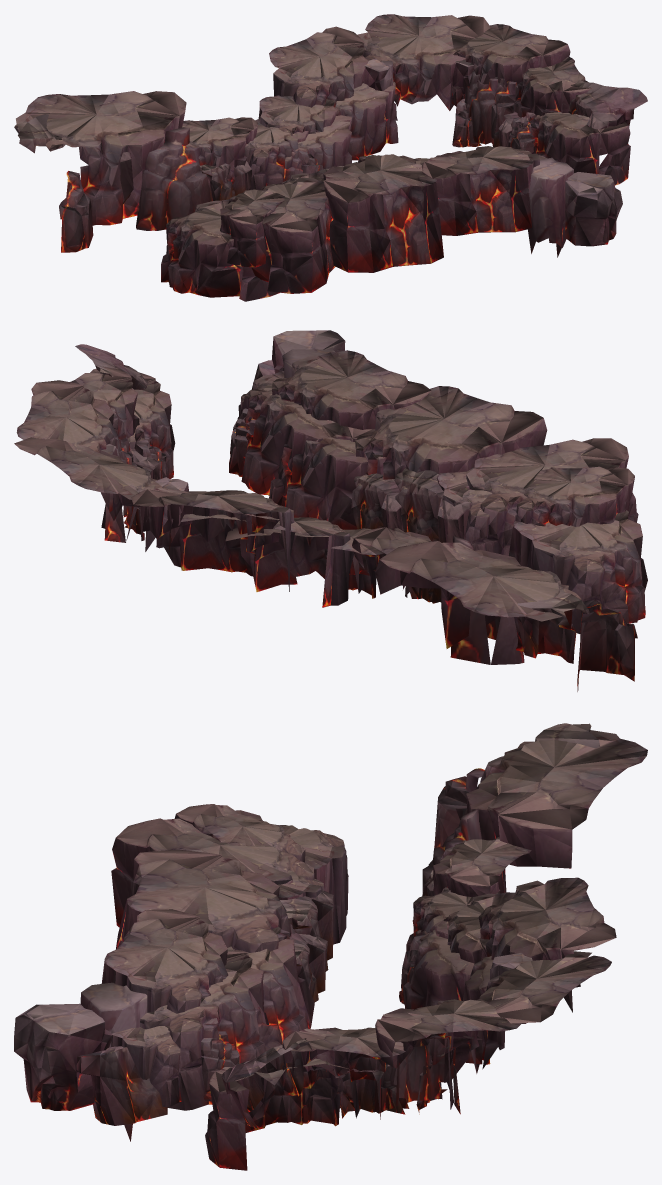
File: yanshi6_1.fbx
The picture shows the model from 3 angles, top to bottom: view 1: azimuth 30°, elevation 25°; view 2: azimuth 150°, elevation 25°; view 3: azimuth 270°, elevation 25°; orthographic projection. The views are drawn at different scales.
Parts seen in each view (by area): view 1: yanshi6_1; view 2: yanshi6_1; view 3: yanshi6_1.
Part boxes in pixels (x1=…): yanshi6_1: x1=14, y1=14, x2=647, y2=301; yanshi6_1: x1=14, y1=330, x2=647, y2=691; yanshi6_1: x1=14, y1=723, x2=647, y2=1170.
Size of the model in its own units: 9787 by 2230 by 7339.
